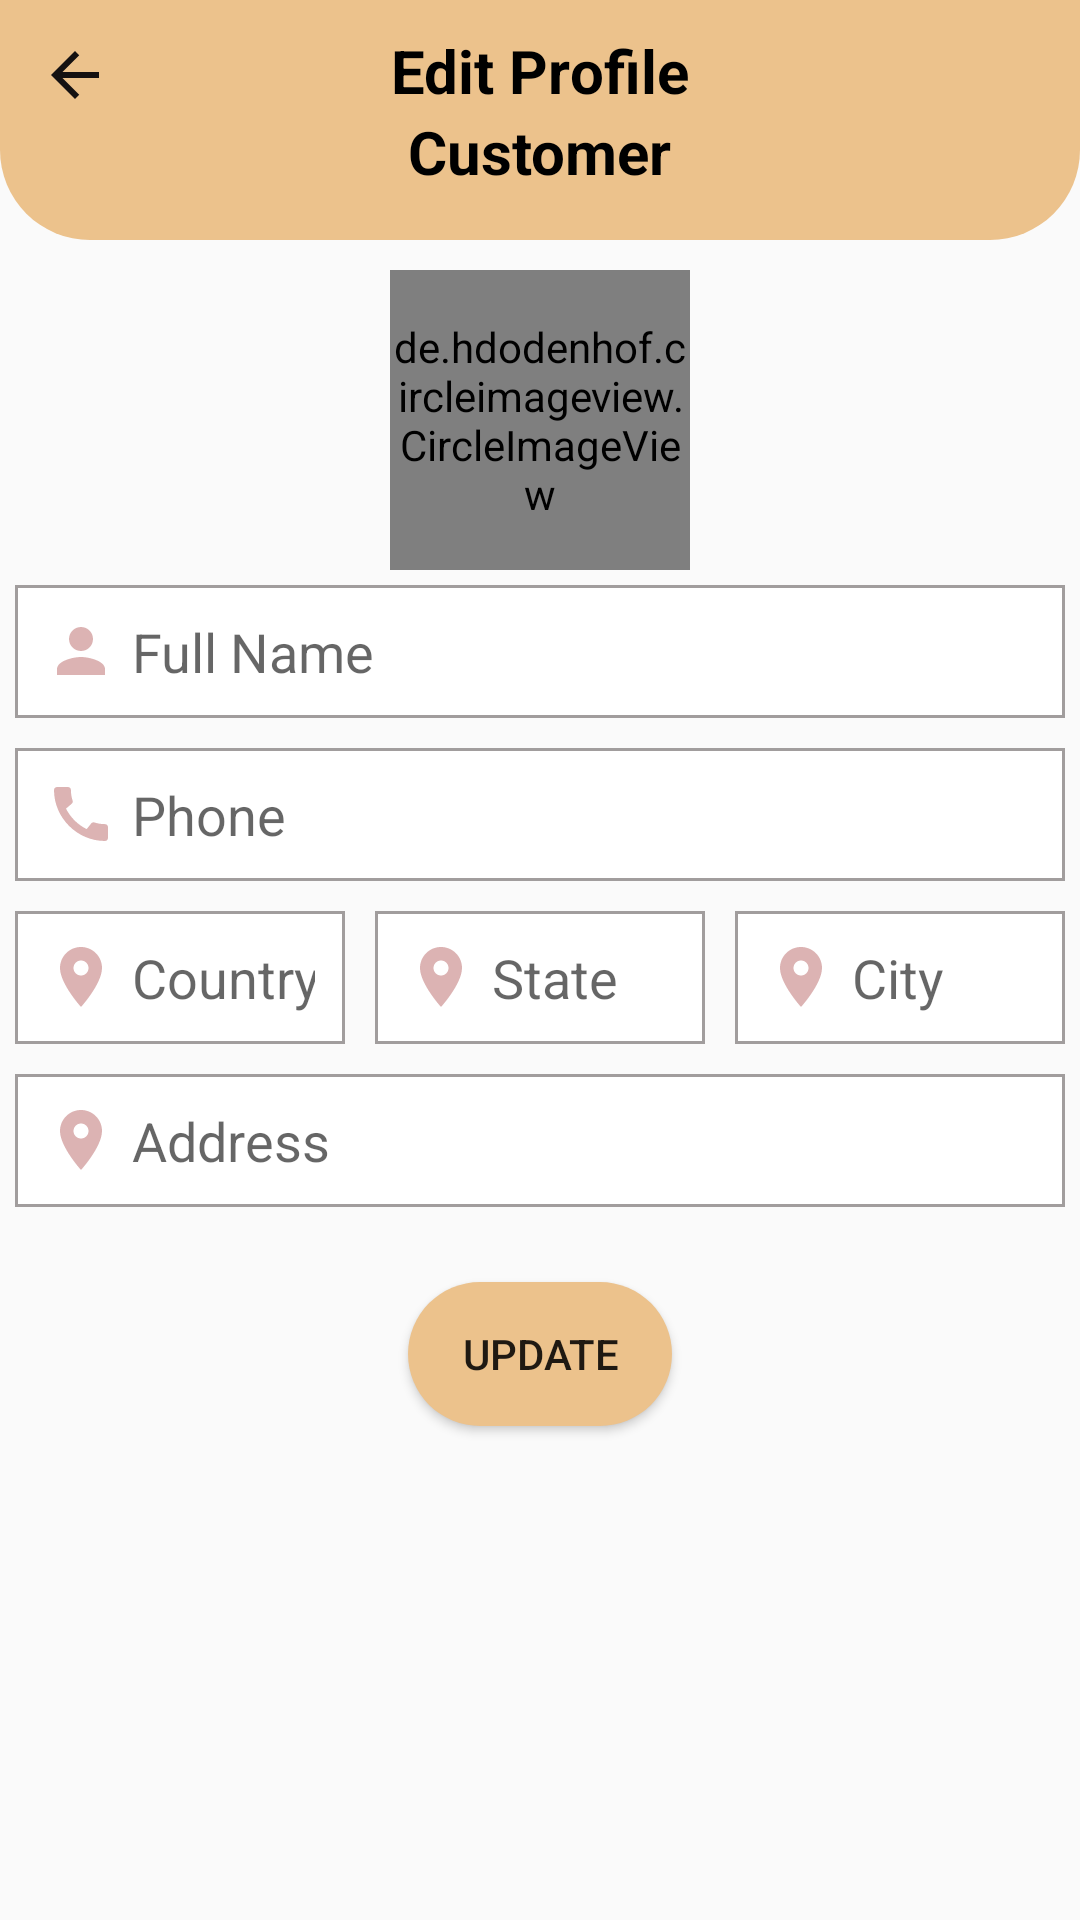

Screen size 1080 x 1920. Icon name, then its box in pixels as (x1, y1, x2, y2):
back: (51, 51, 99, 99)
